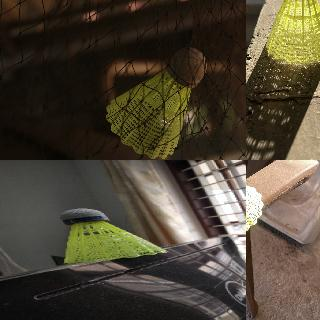shuttlecock: (106, 48, 204, 158), (60, 208, 167, 264), (266, 0, 319, 63), (246, 176, 264, 235)
